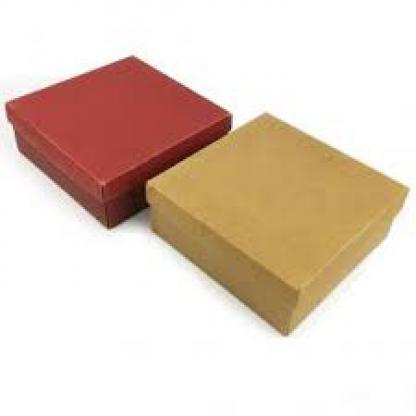CARDBOARD: (142, 111, 407, 333), (4, 54, 231, 229)
